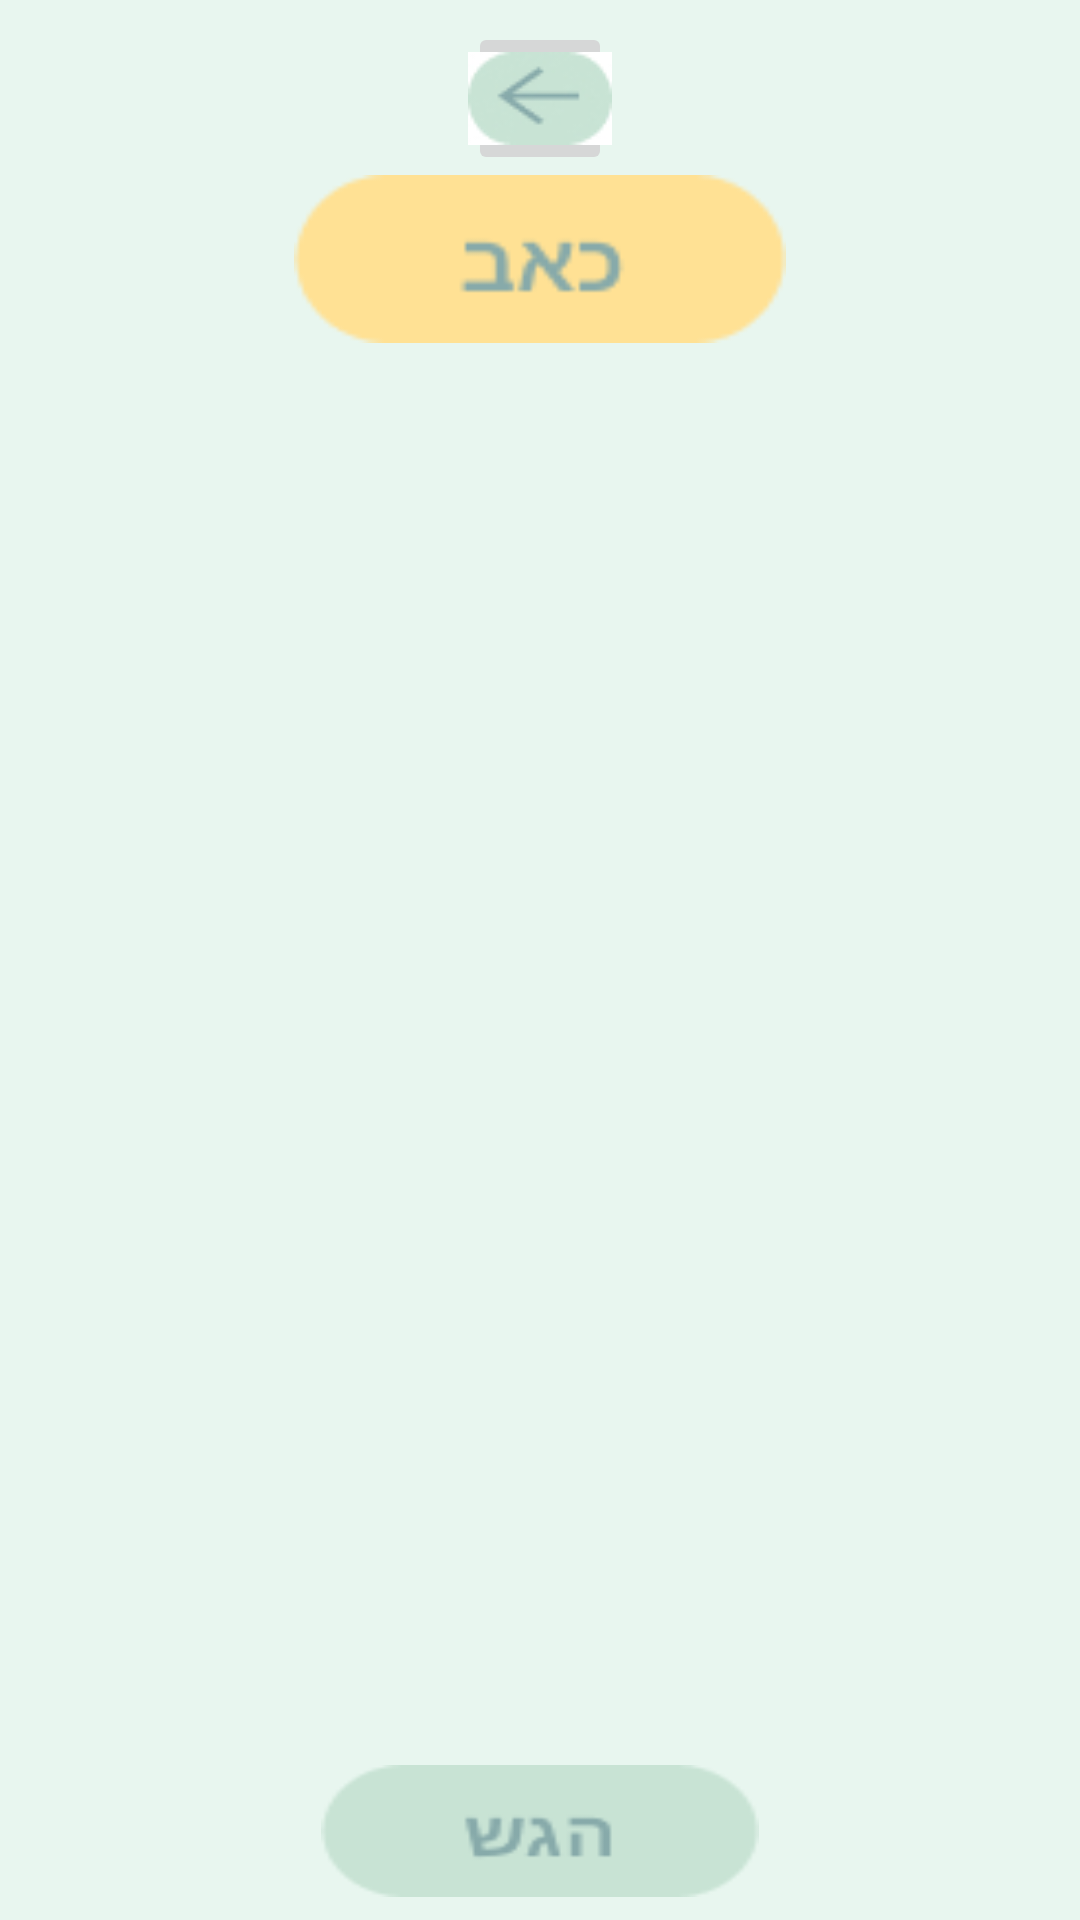

Screen size 1080 × 1920. Icon name, then its box in pixels as (x1, y1, x2, y2):
Go To HebrewLevels: (468, 40, 612, 157)
